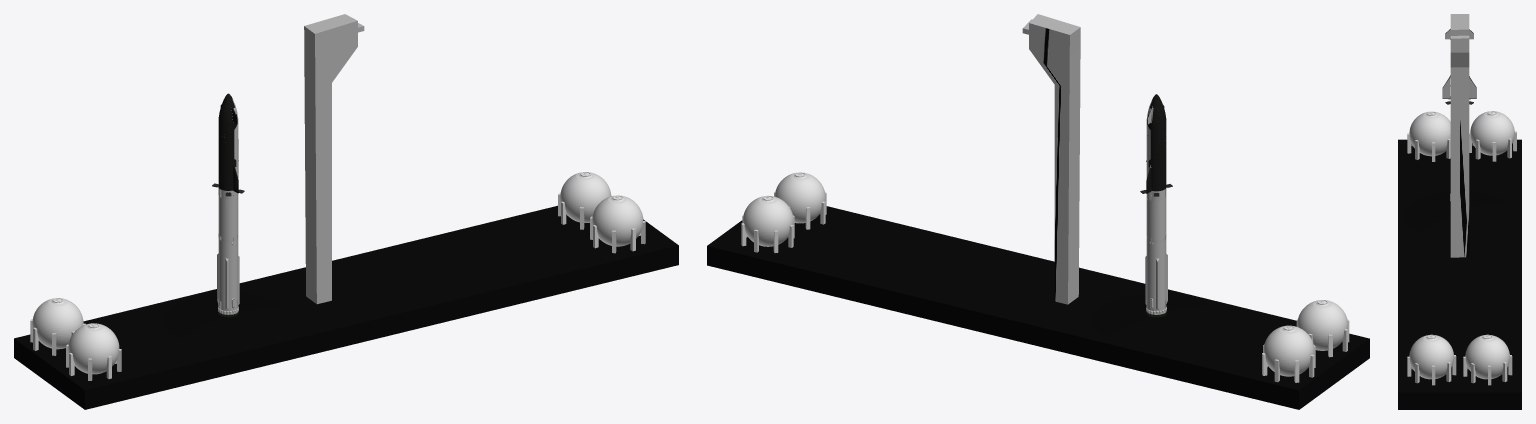
The model's file is earth2earth.glb.
The picture shows the model from 3 angles, left to right: view 1: azimuth 30°, elevation 25°; view 2: azimuth 150°, elevation 25°; view 3: azimuth 270°, elevation 25°; orthographic projection. The views are drawn at different scales.
Visible parts, largest first — view 1: Cone, sphere thing (×4), Cube, Superheavy V4_37, Starship V4_19; view 2: Cone, sphere thing (×4), Cube, Superheavy V4_37, Starship V4_19; view 3: Cone, sphere thing (×4), Cube, Aft Flaps_1, Aft Flaps_2.
Part boxes in pixels (x1,y1,x2,y2): Cone: [14, 205, 678, 409]; sphere thing (×4): [30, 172, 645, 380]; Cube: [304, 14, 364, 304]; Superheavy V4_37: [217, 187, 239, 317]; Starship V4_19: [218, 93, 238, 190]; Cone: [707, 206, 1369, 409]; sphere thing (×4): [741, 172, 1349, 382]; Cube: [1022, 14, 1080, 304]; Superheavy V4_37: [1145, 188, 1167, 317]; Starship V4_19: [1146, 94, 1166, 191]; Cone: [1398, 139, 1521, 409]; sphere thing (×4): [1407, 111, 1516, 385]; Cube: [1450, 14, 1469, 257]; Aft Flaps_1: [1469, 78, 1476, 98]; Aft Flaps_2: [1442, 78, 1450, 98].
Size of the model in its own units: 63.22 by 29.83 by 13.08.
Materials: 29 (4 with a texture image).
